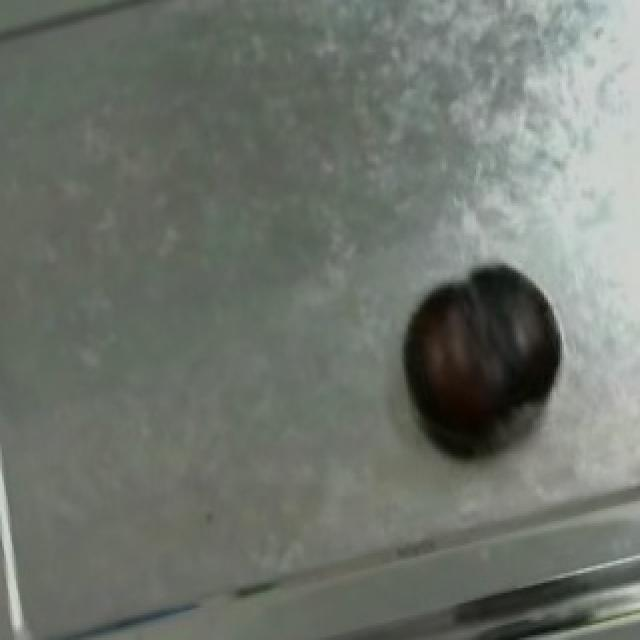Fruit: (388, 250, 576, 454)
